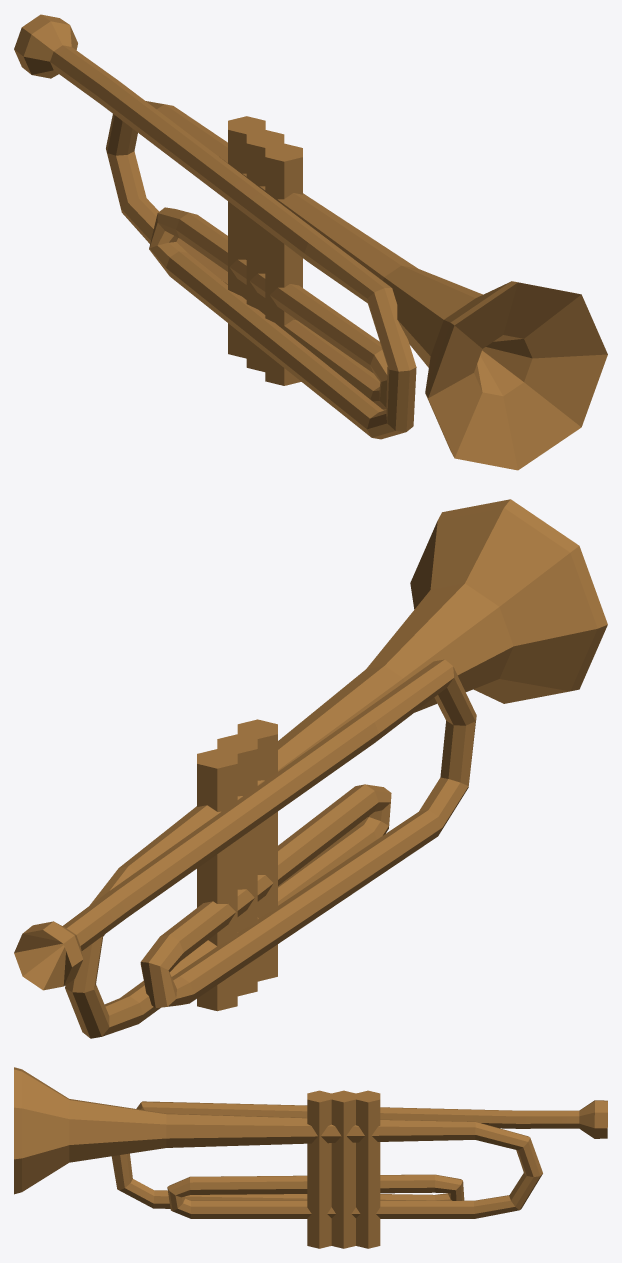
The model's file is music_trumpet.fbx.
The picture shows the model from 3 angles, top to bottom: view 1: azimuth 30°, elevation 25°; view 2: azimuth 150°, elevation 25°; view 3: azimuth 270°, elevation 25°; orthographic projection. The views are drawn at different scales.
Visible parts, largest first — view 1: music_trumpet; view 2: music_trumpet; view 3: music_trumpet.
Boxes of the visible parts, bbox=[...] form: music_trumpet: bbox=[14, 14, 607, 470]; music_trumpet: bbox=[14, 499, 607, 1038]; music_trumpet: bbox=[14, 1067, 607, 1248].
Size of the model in its own units: 45.62 by 64.46 by 200.
